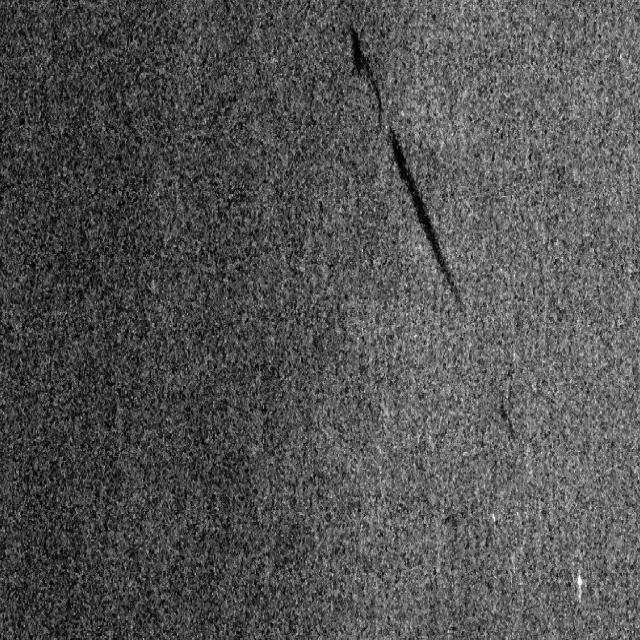oil-spill: (344, 24, 474, 324), (494, 387, 520, 452)
